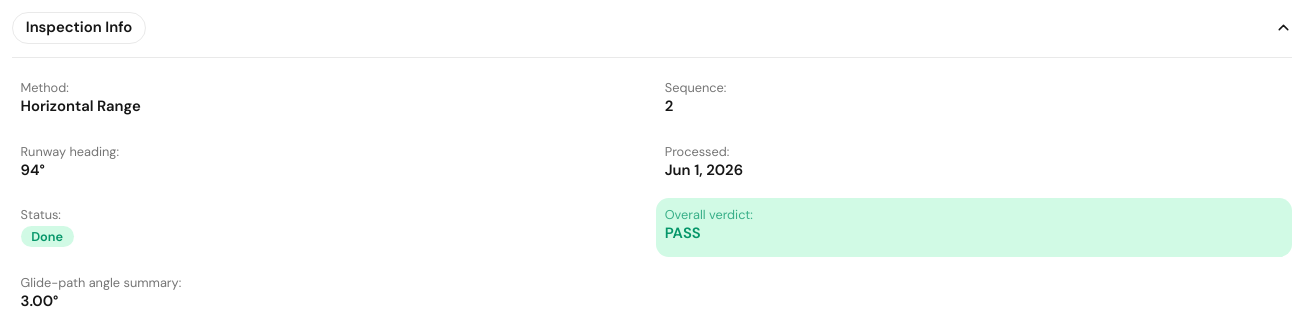
InspectionInfoPanel › collapses on header click
This screenshot has width=1304, height=324.
Expected: the text "Horizontal Range" is shown, [20, 96, 141, 116]
Click the button "Inspection Info" at (79, 28), box [12, 12, 1292, 44]
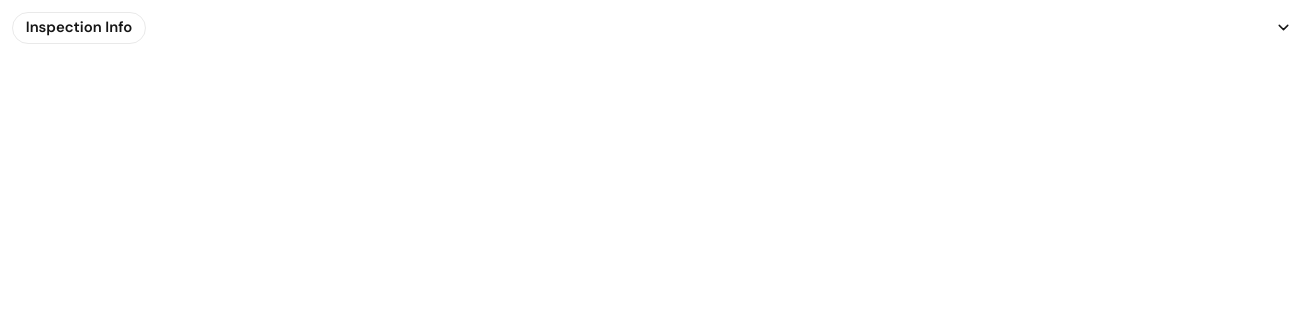
Expected: the text "Horizontal Range" is gone
